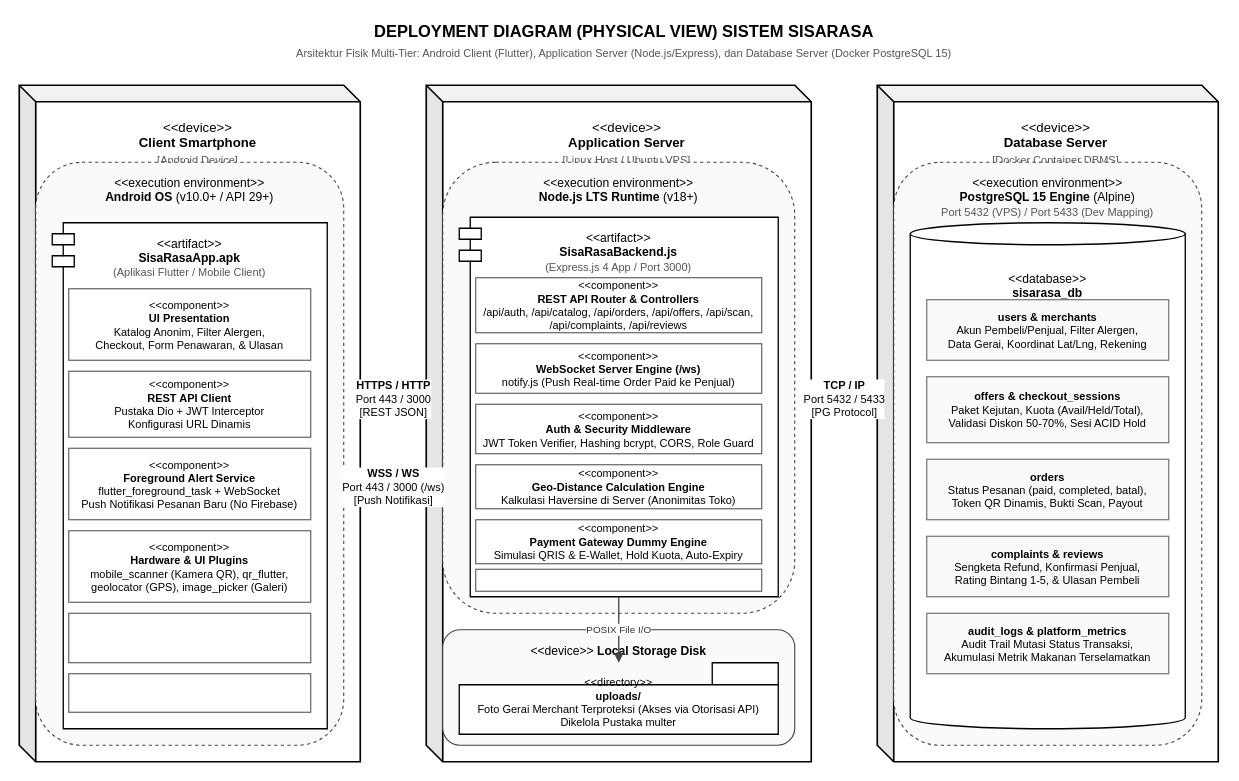
This 1239x781 diagram has some shape labels left out. Each missing label, with the centre of its shape:
"<<component>> Background Worker (Timeout 15m & No-Show)" belongs at (618,579).
"<<component>> Local Secure Storage SharedPreferences (Token JWT & URL Server)" belongs at (189,637).
"<<component>> Session & Role State Manager" belongs at (189,692).
